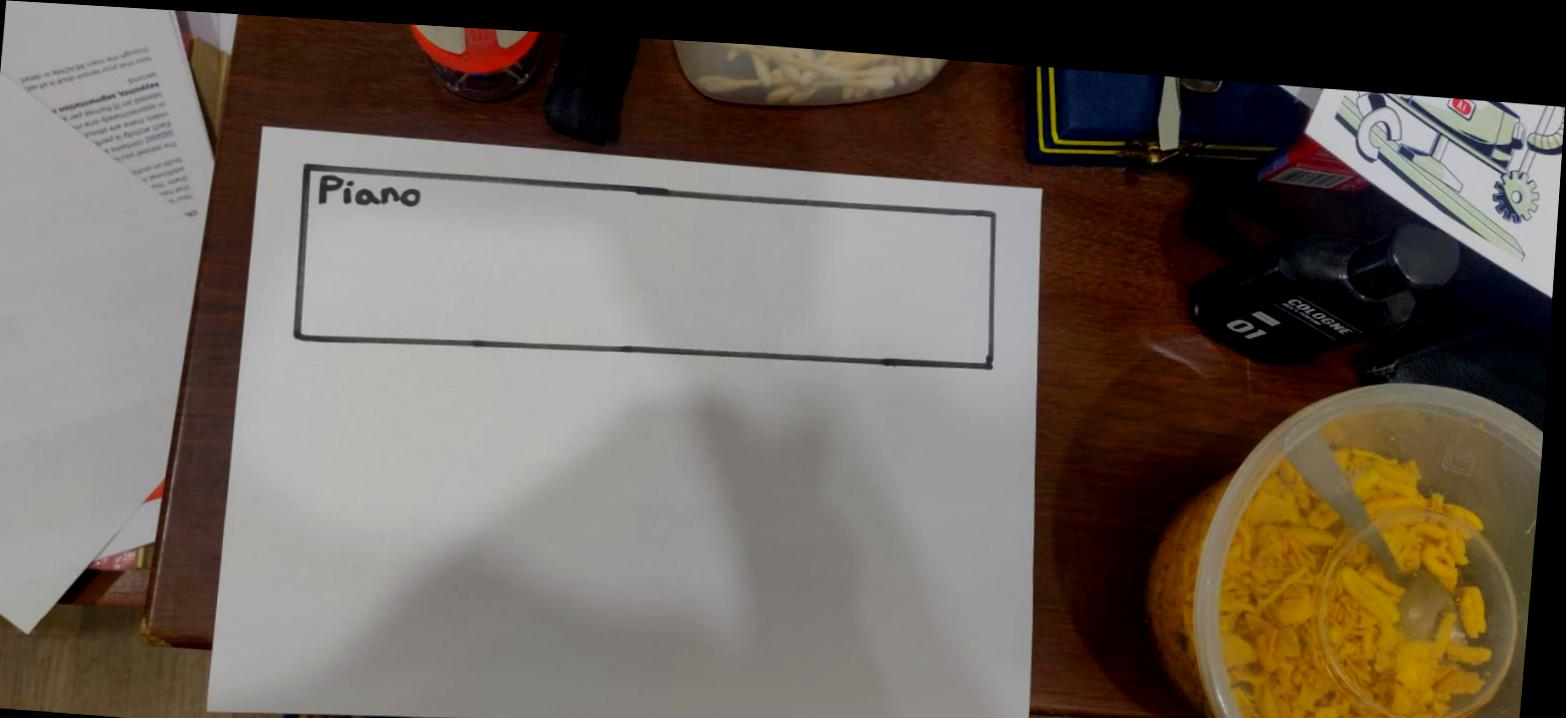paper-piano: (300, 165, 1005, 356)
